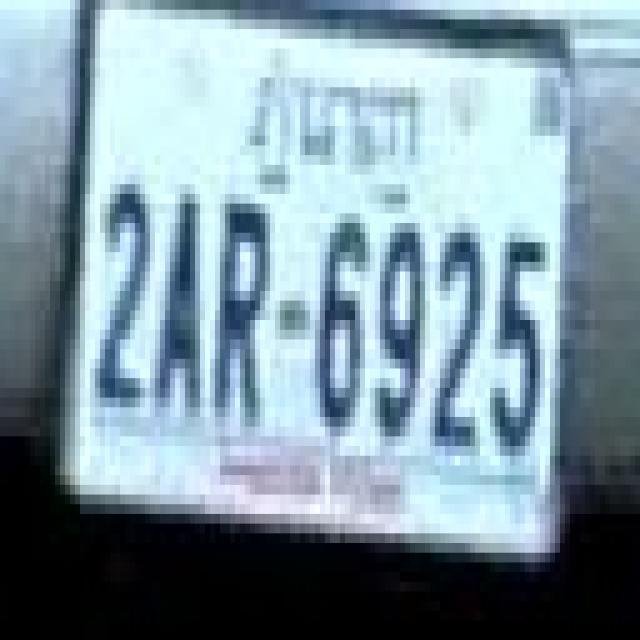Phnom_Penh: (255, 49, 426, 201)
